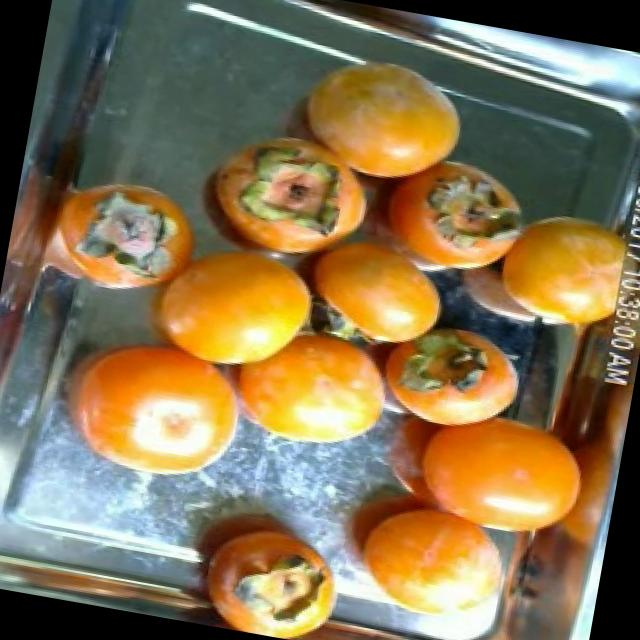Fruit: (200, 292, 422, 478), (266, 36, 484, 208), (445, 179, 640, 343), (273, 208, 470, 363)
